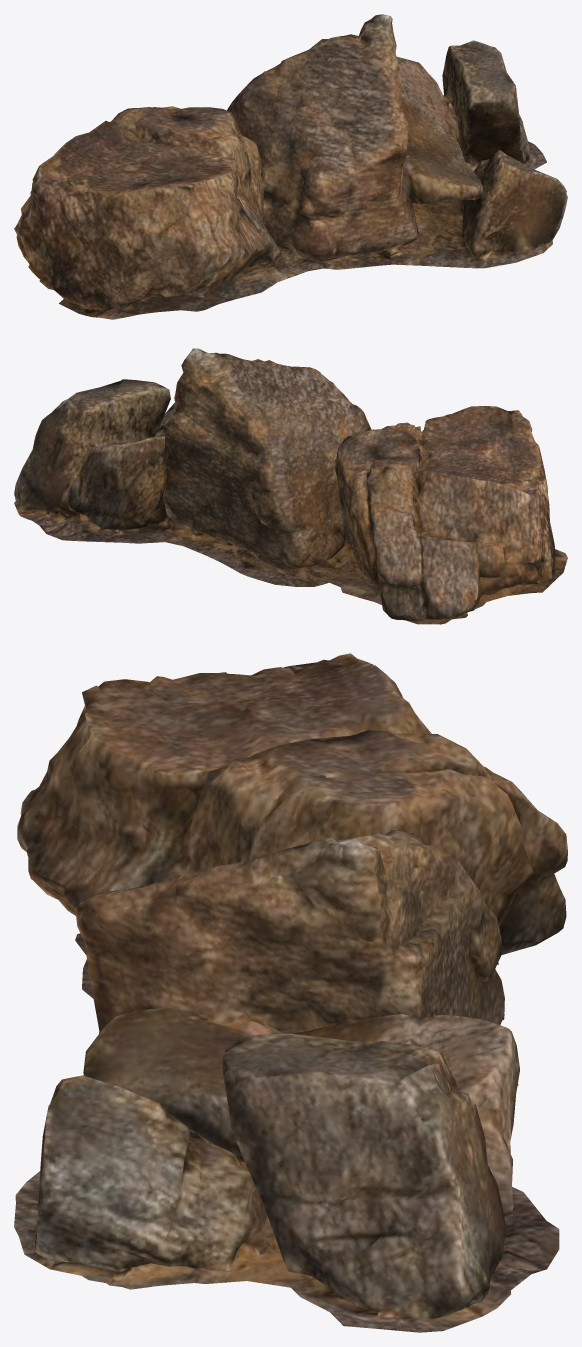
Rendered from namaqualand_boulder_02_wood.glb.
3 views of the same model, one above another, from view 1: azimuth 30°, elevation 25°; view 2: azimuth 150°, elevation 25°; view 3: azimuth 270°, elevation 25° (orthographic). The views are drawn at different scales.
Visible parts, largest first — view 1: boulder_02; view 2: boulder_02; view 3: boulder_02.
Part boxes in pixels (left/top/right/bottom): boulder_02: left=14, top=14, right=567, bottom=319; boulder_02: left=14, top=348, right=567, bottom=624; boulder_02: left=14, top=653, right=567, bottom=1332.
Size of the model in its own units: 2.53 by 0.8804 by 1.23.
1 material, 1 textured.
